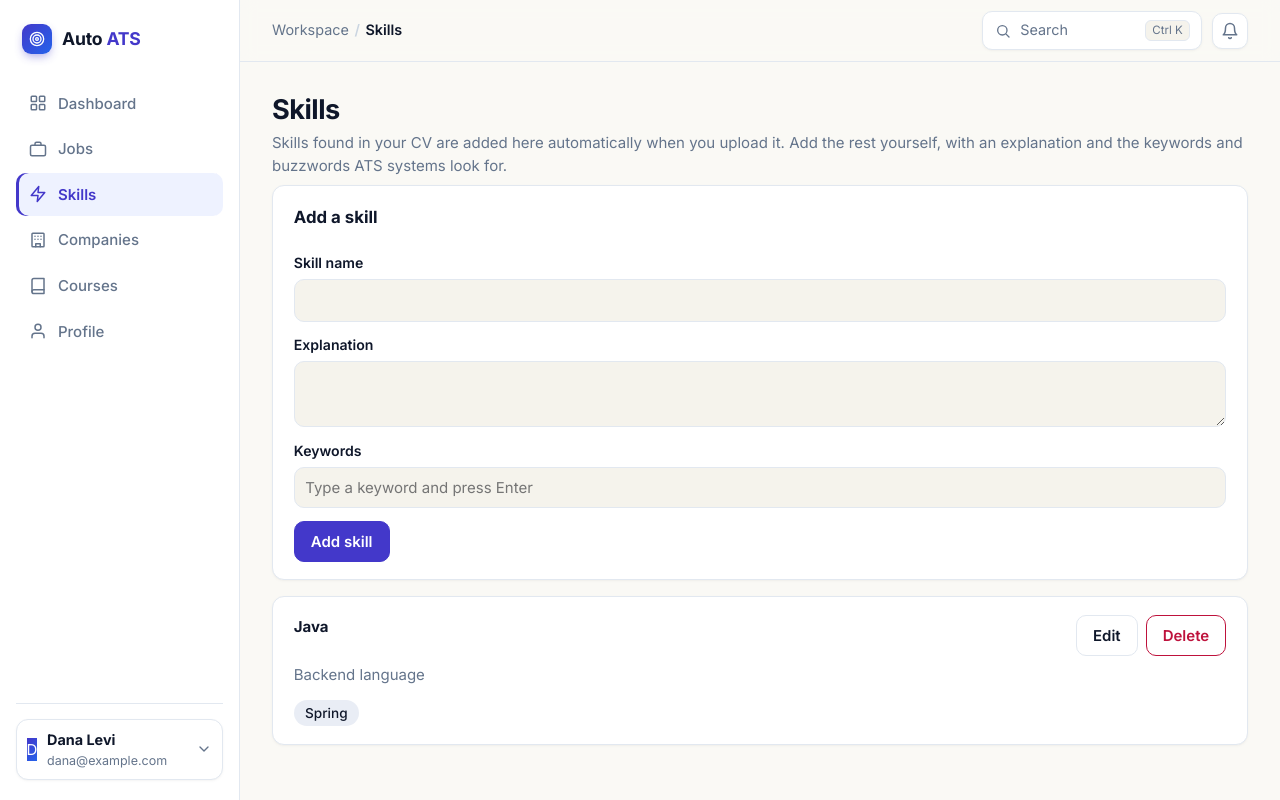
Test: SkillsPage › GivenEditing_WhenCancelling_ThenFormReturnsToAddMode
Click the button with aria-label "Edit Java" at (1107, 636), box [1076, 615, 1138, 656]
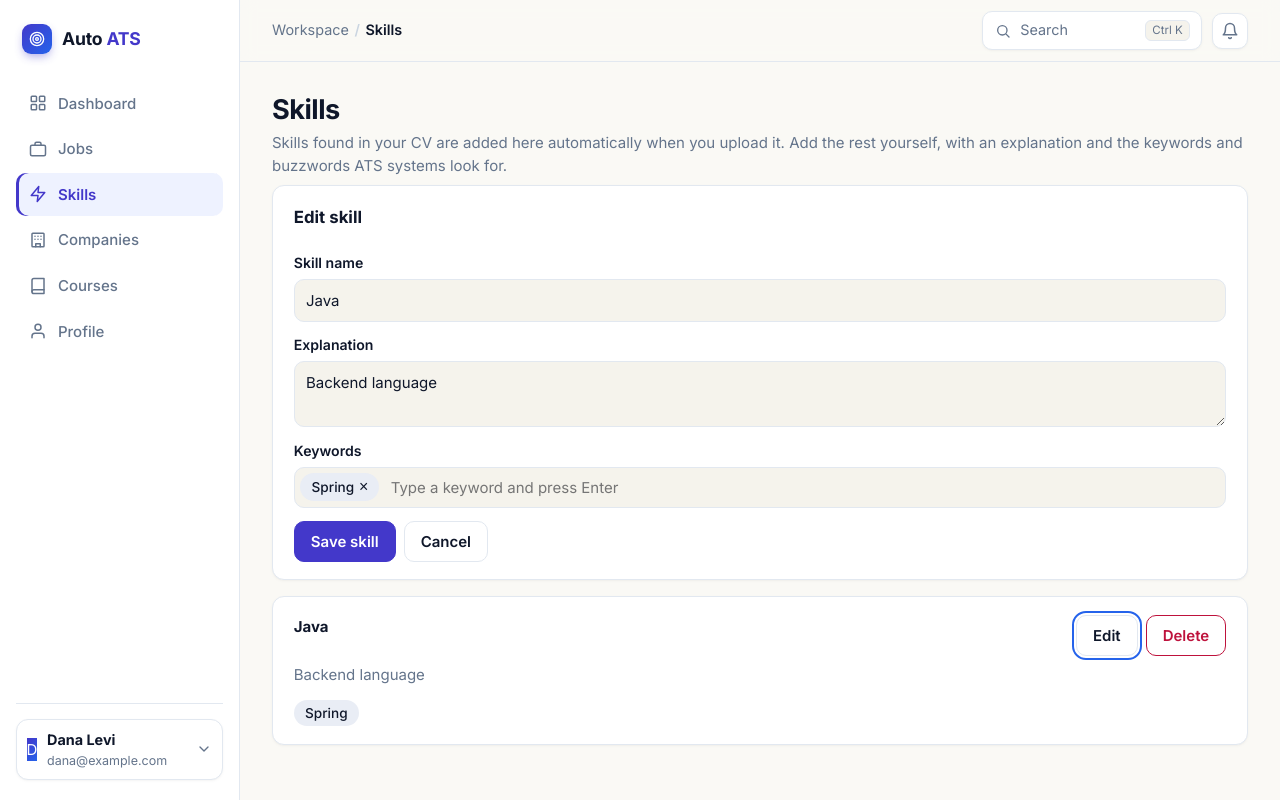
Click the button "Cancel" at (446, 541), box [404, 521, 488, 562]
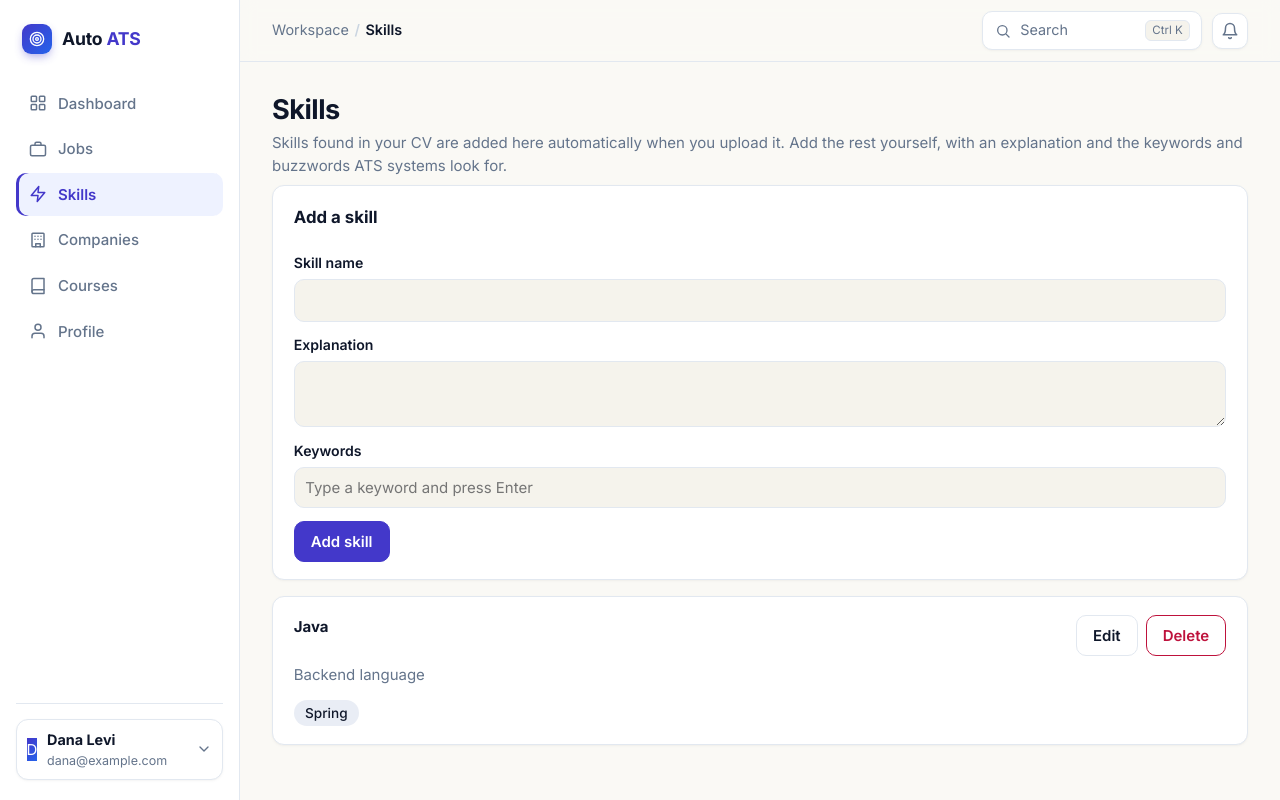
Expected: the heading "Add a skill" is shown, [294, 207, 378, 227]
Expected: the field labelled "Skill name" is empty, [294, 279, 1226, 322]
